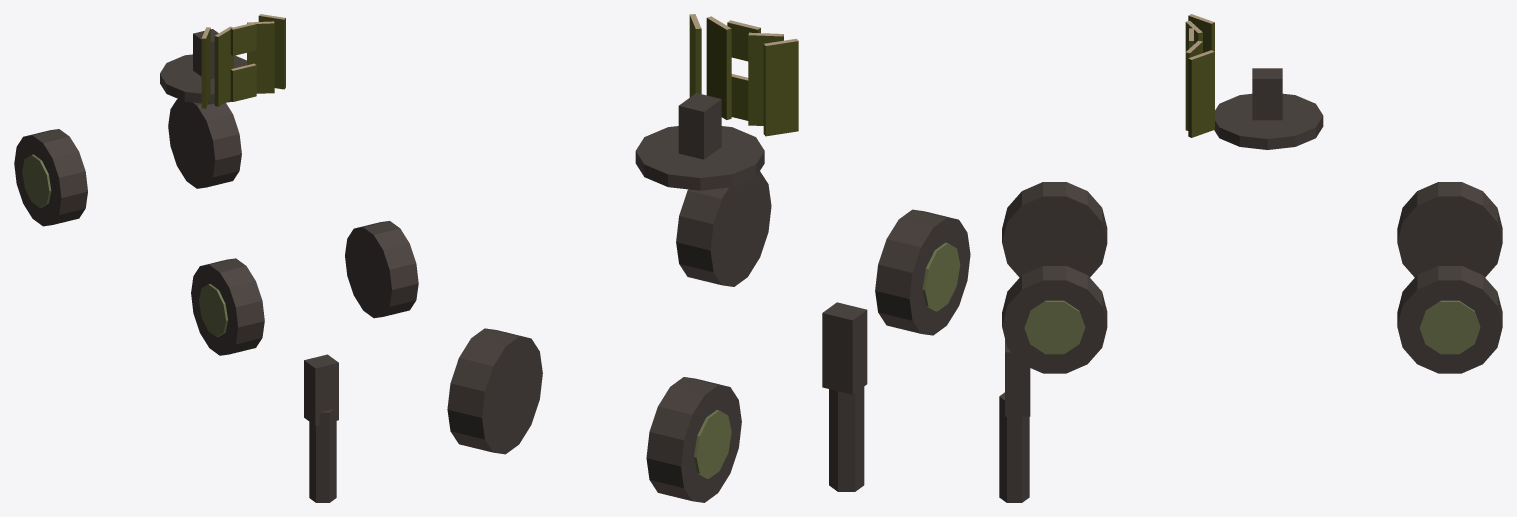
The model's file is SM_Vamtac_Animable_v1_Liso_LOD1.fbx.
3 renders of one model, left to right at view 1: azimuth 30°, elevation 25°; view 2: azimuth 150°, elevation 25°; view 3: azimuth 270°, elevation 25°, orthographic. The views are drawn at different scales.
Parts seen in each view (by area): view 1: Aro, Rueda_2R, Rueda_1R, Rueda_1L, Rueda_2L, Ametralladora; view 2: Aro, Rueda_1R, Rueda_2L, Rueda_2R, Rueda_1L, Ametralladora; view 3: Aro, Rueda_2L, Rueda_1L, Rueda_2R, Rueda_1R, Ametralladora.
Boxes of the visible parts, x1,y1,x2,y2 form: Aro: (160,14,285,108); Rueda_2R: (14,129,87,226); Rueda_1R: (191,258,264,355); Rueda_1L: (345,221,418,318); Rueda_2L: (168,99,241,188); Ametralladora: (304,354,338,502); Aro: (635,14,798,190); Rueda_1R: (875,209,970,335); Rueda_2L: (447,328,542,454); Rueda_2R: (646,377,741,502); Rueda_1L: (676,171,771,286); Ametralladora: (822,302,867,491); Aro: (1185,14,1323,149); Rueda_2L: (1397,266,1502,373); Rueda_1L: (1002,266,1107,373); Rueda_2R: (1397,182,1502,277); Rueda_1R: (1002,182,1107,277); Ametralladora: (999,339,1030,502).
Size of what is drawn, in the model's own units: 2.35 by 5.04 by 4.97.
